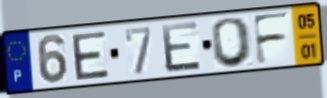6: (35, 32, 68, 86)
7: (123, 24, 154, 78)
E: (159, 19, 204, 75), (69, 29, 112, 82)
F: (250, 10, 291, 67)
O: (210, 15, 255, 70)
